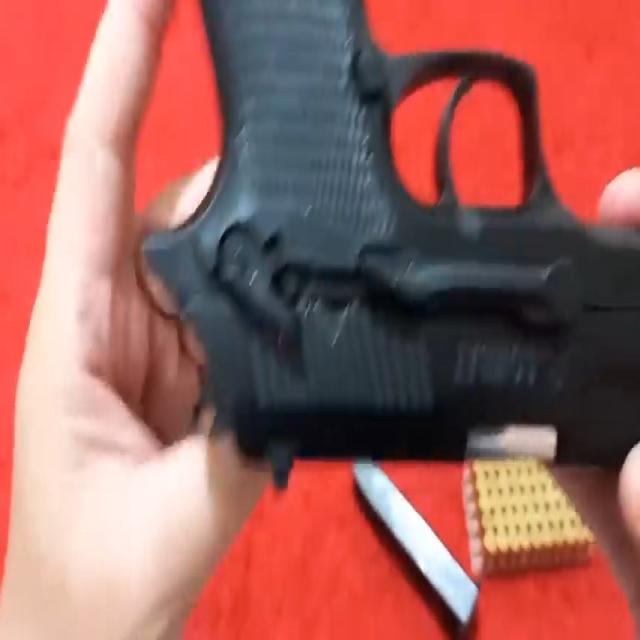handgun: (132, 0, 640, 492)
